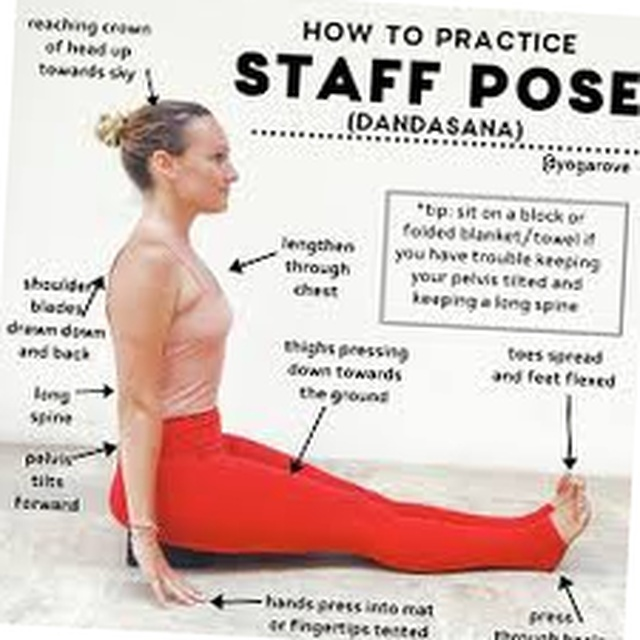Staff_Pose: (93, 100, 593, 611)
